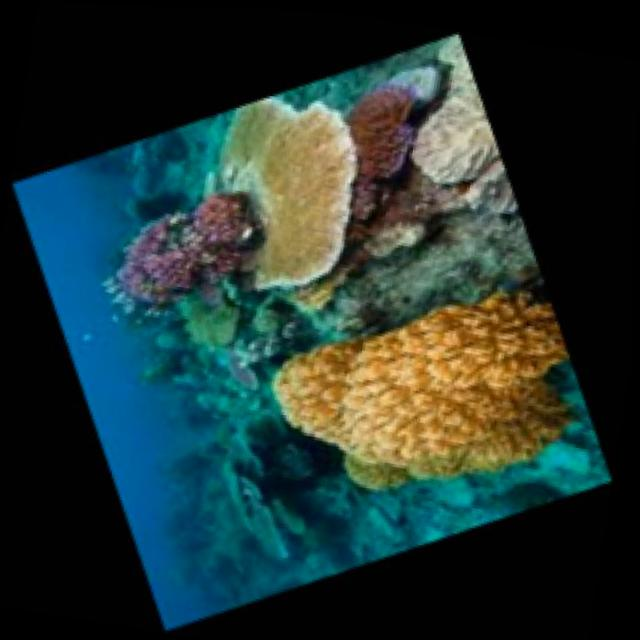Dead Coral: (153, 433, 321, 599)
